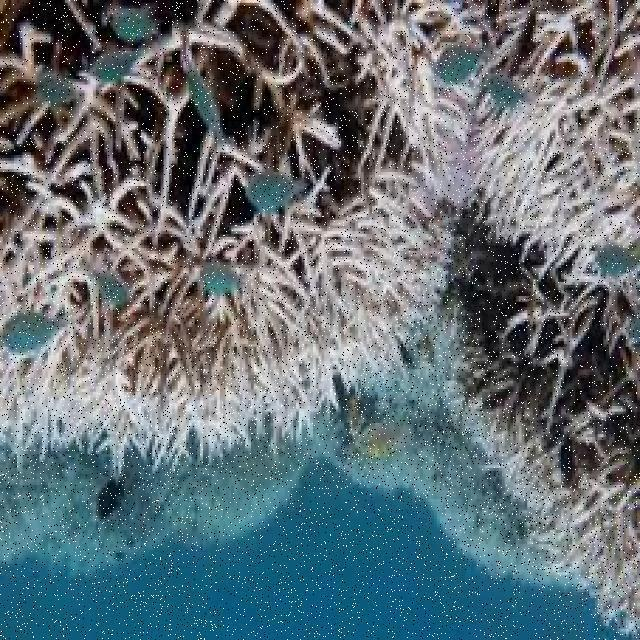Bleached: (1, 1, 640, 633)
